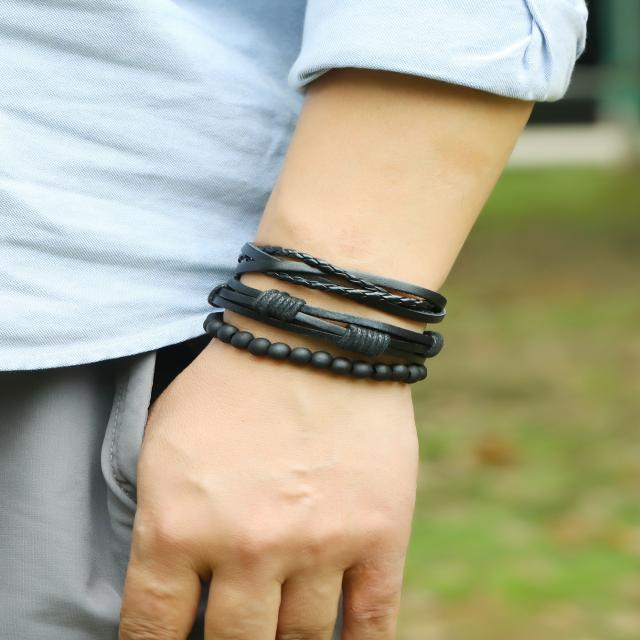bracelet: (153, 200, 578, 443)
